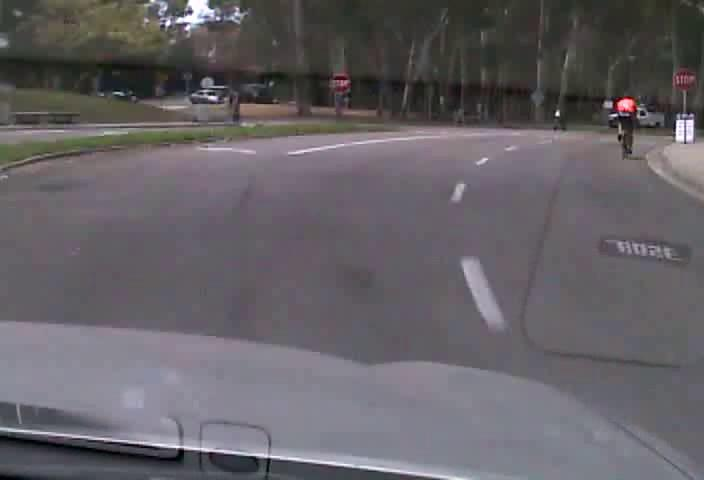stop: (329, 73, 351, 95)
